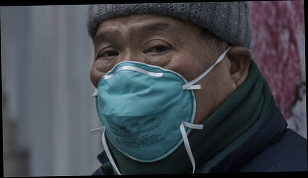with_mask: (91, 17, 226, 143)
